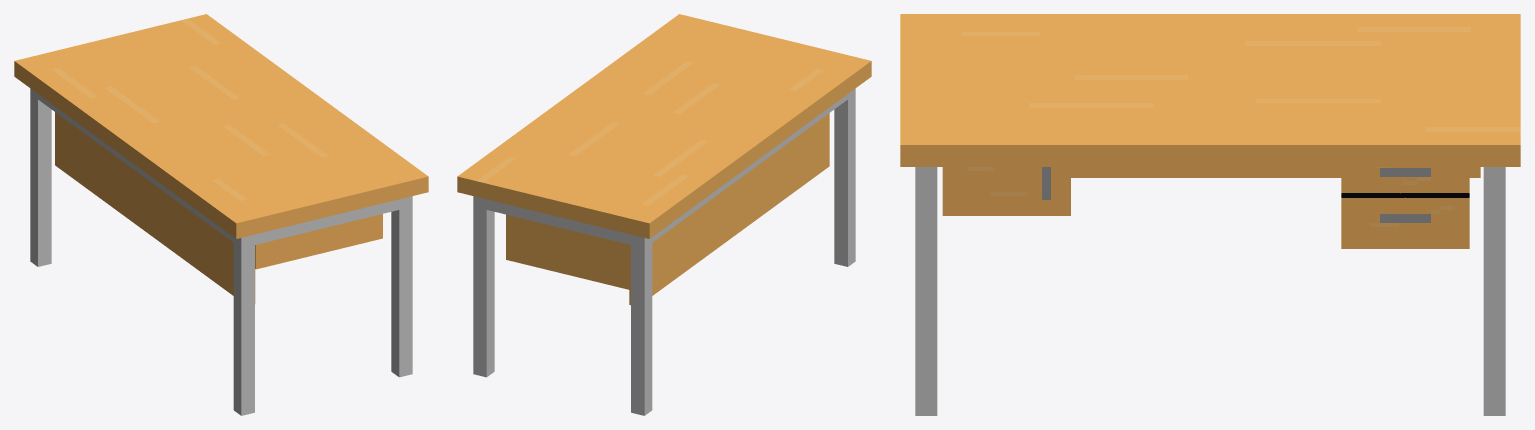
The model's file is Bureau.glb.
3 views of the same model, side by side, from view 1: azimuth 30°, elevation 25°; view 2: azimuth 150°, elevation 25°; view 3: azimuth 270°, elevation 25° (orthographic). The views are drawn at different scales.
Visible parts, largest first — view 1: Cube; view 2: Cube; view 3: Cube.
Boxes of the visible parts, <box> form: Cube: <box>14,14,428,415</box>; Cube: <box>457,14,871,415</box>; Cube: <box>900,14,1520,415</box>.
Bounding box in the file's own units: 1 × 0.9893 × 2.
Materials: 1 (1 with a texture image).
